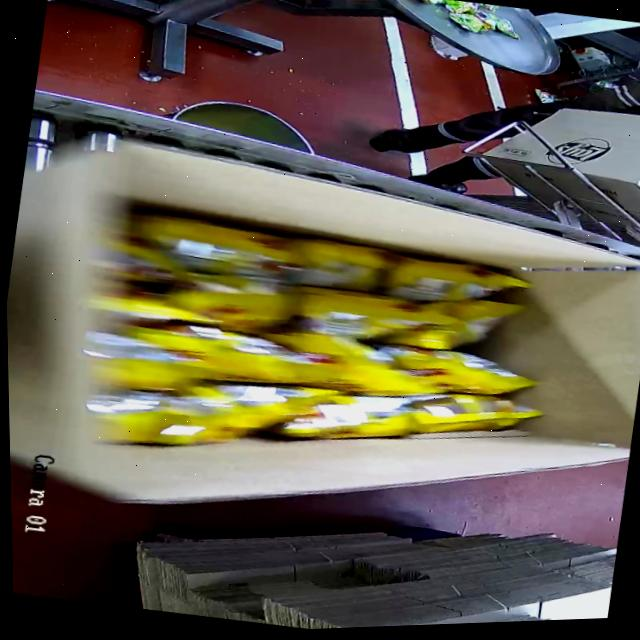SALTED: (83, 205, 575, 507)
